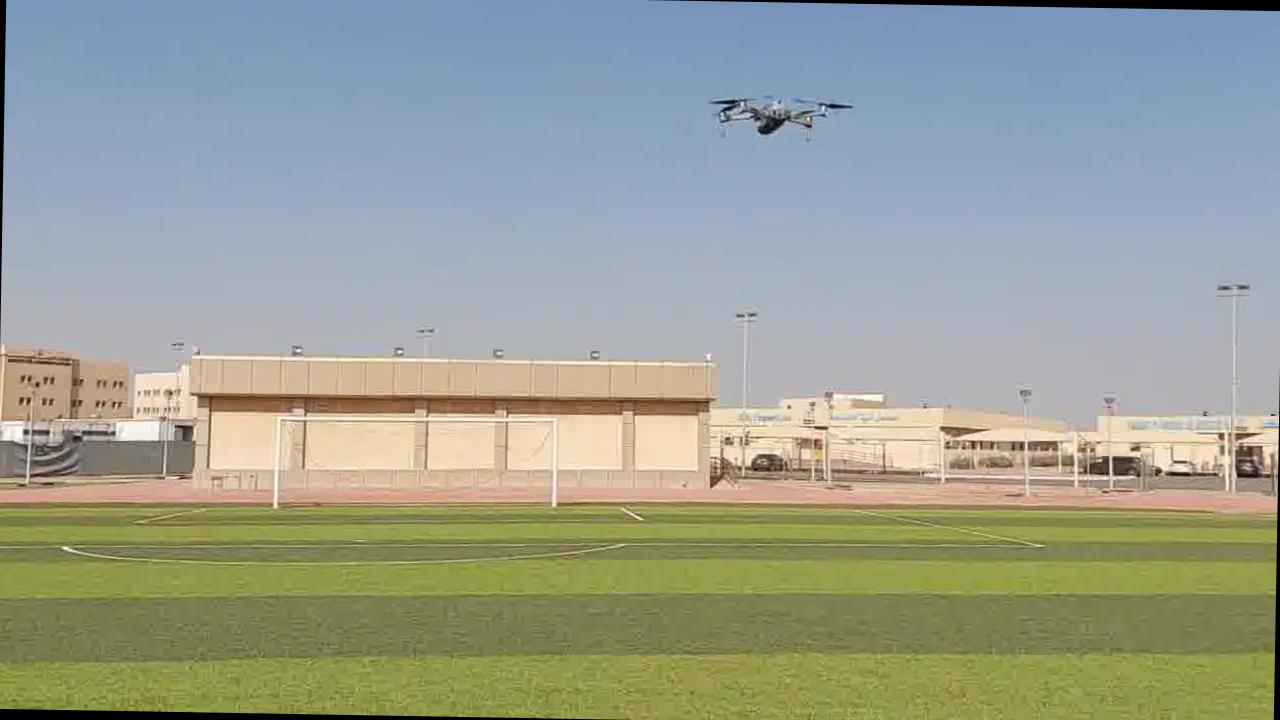drone: (700, 90, 860, 150)
